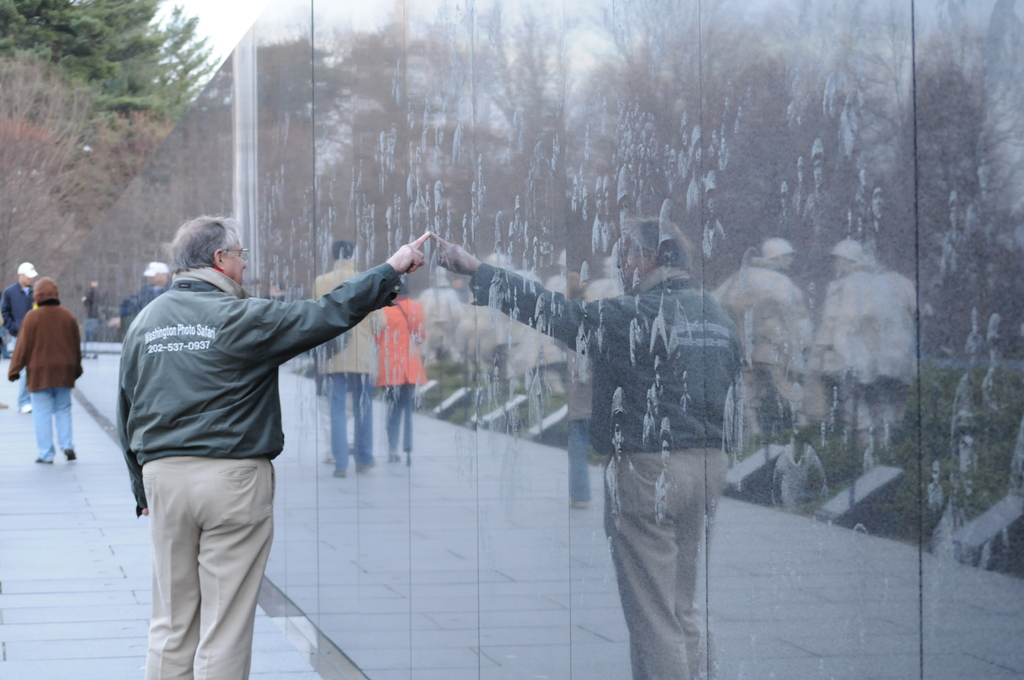Tree: (0, 0, 227, 122), (0, 64, 99, 293), (144, 12, 216, 107), (103, 106, 174, 198)
